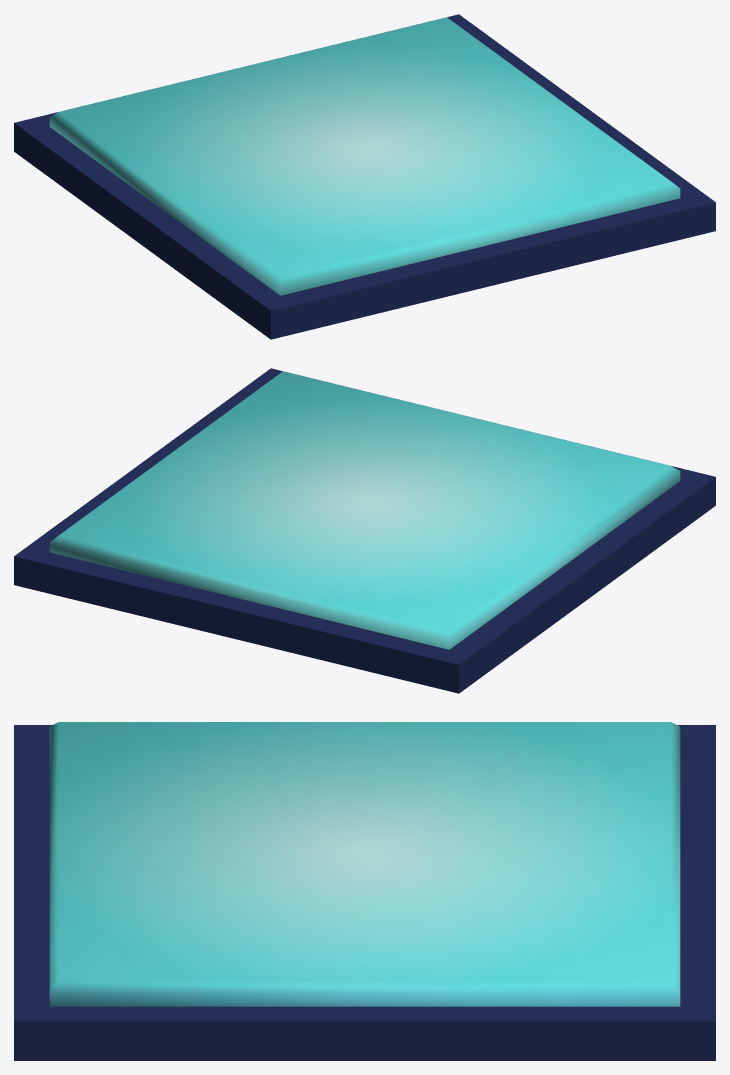
File: tileLightBlue.glb
The picture shows the model from 3 angles, top to bottom: view 1: azimuth 30°, elevation 25°; view 2: azimuth 150°, elevation 25°; view 3: azimuth 270°, elevation 25°; orthographic projection. The views are drawn at different scales.
Visible parts, largest first — view 1: TileLightBlue; view 2: TileLightBlue; view 3: TileLightBlue.
Part boxes in pixels (<box>): TileLightBlue: <box>14,14,715,339</box>; TileLightBlue: <box>14,368,715,693</box>; TileLightBlue: <box>14,722,715,1060</box>.
Size of what is drawn, in the model's own units: 2 by 0.192 by 2.
1 material, 1 textured.
